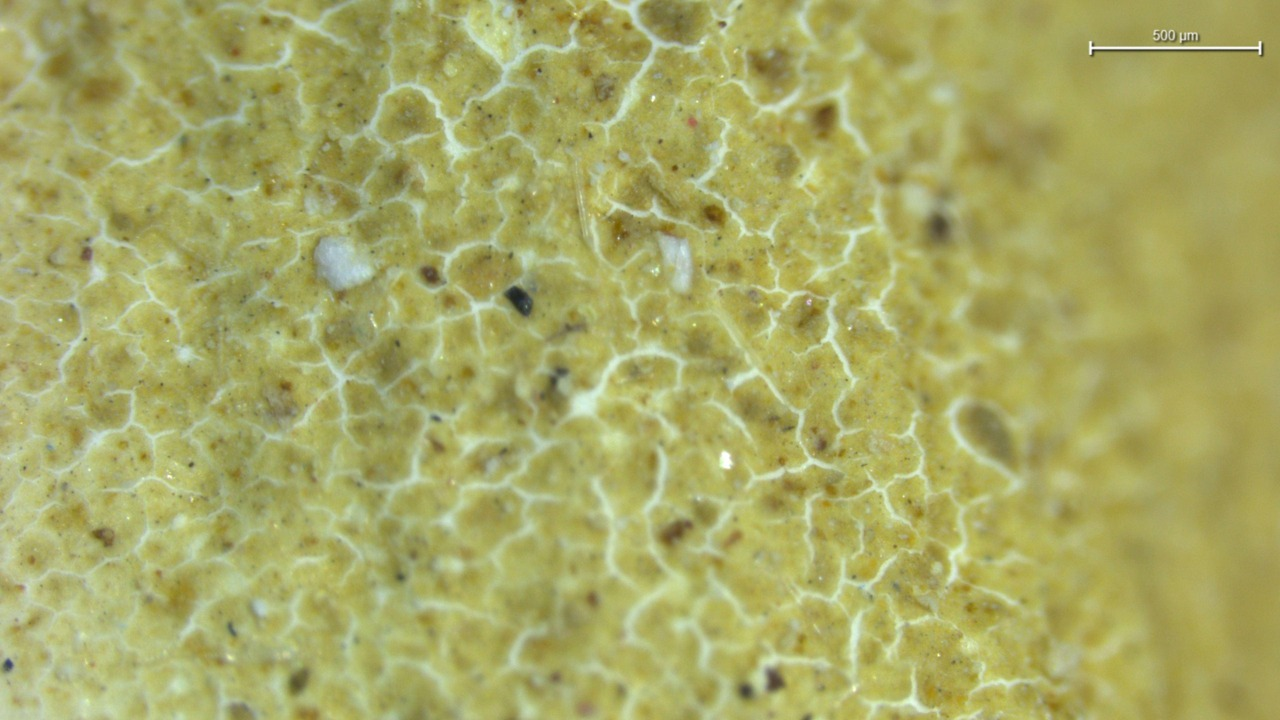microplastic_fragment: (314, 236, 373, 291)
